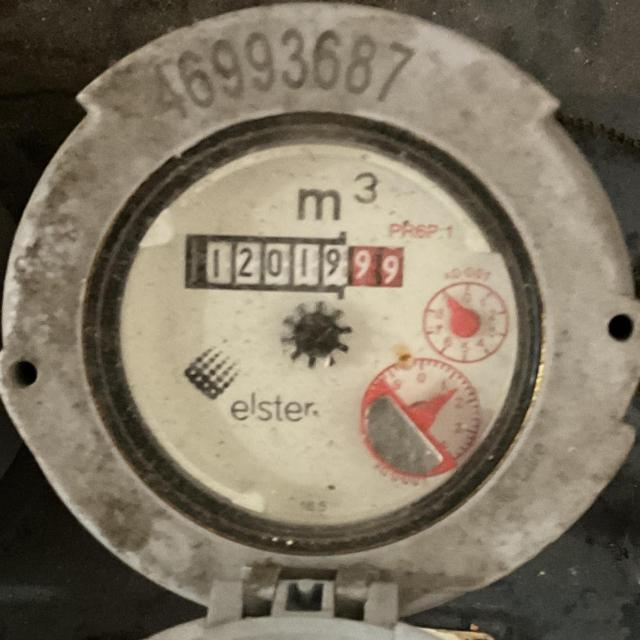gaz_meter: (107, 130, 541, 534)
indication: (190, 236, 408, 291)
